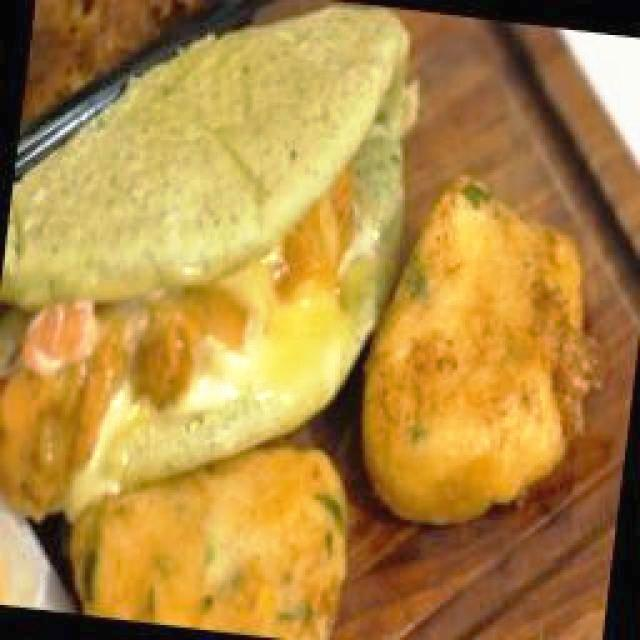chicken_nuggets: (359, 174, 602, 525)
mango chicken pocket: (2, 3, 419, 516)
